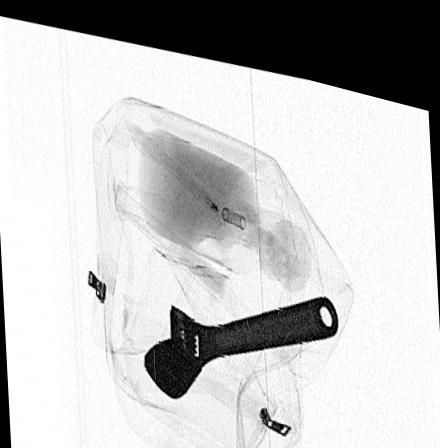Wrench: (139, 279, 339, 394)
